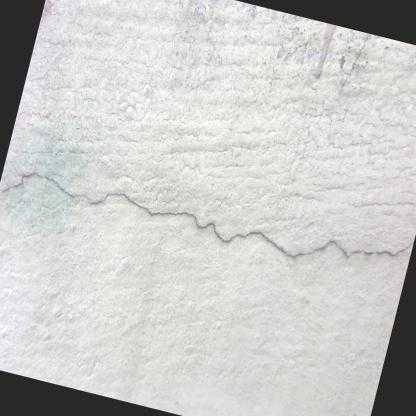crack: (0, 170, 415, 261)
